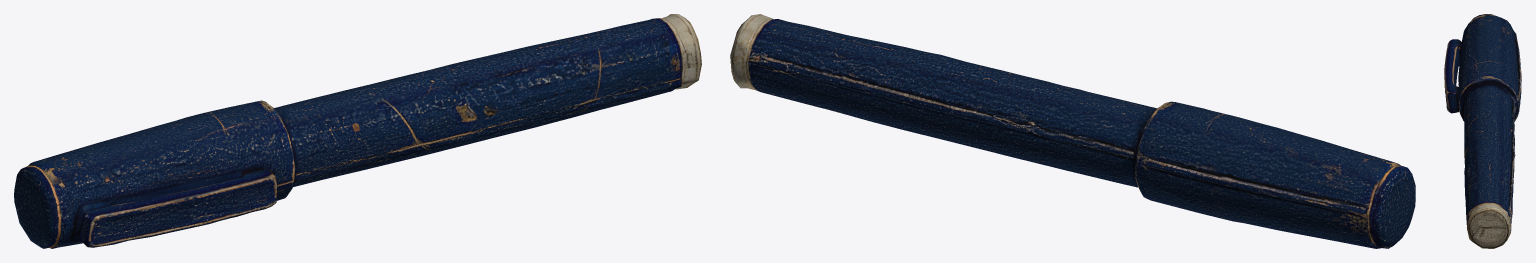
File: DeskPen.fbx
The picture shows the model from 3 angles, left to right: view 1: azimuth 30°, elevation 25°; view 2: azimuth 150°, elevation 25°; view 3: azimuth 270°, elevation 25°; orthographic projection. The views are drawn at different scales.
Visible parts, largest first — view 1: tripo_node_a666c65a-301e-4423-a997-bcc156fd45d6; view 2: tripo_node_a666c65a-301e-4423-a997-bcc156fd45d6; view 3: tripo_node_a666c65a-301e-4423-a997-bcc156fd45d6.
Boxes of the visible parts, <box> form: tripo_node_a666c65a-301e-4423-a997-bcc156fd45d6: <box>14,14,701,248</box>; tripo_node_a666c65a-301e-4423-a997-bcc156fd45d6: <box>730,14,1415,248</box>; tripo_node_a666c65a-301e-4423-a997-bcc156fd45d6: <box>1444,14,1521,248</box>.
Size of the model in its own units: 100 by 13.62 by 16.85.
1 material, 1 textured.
